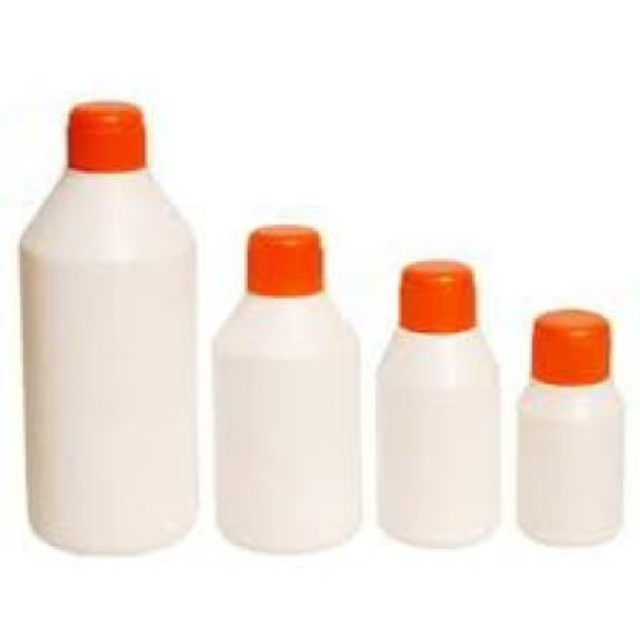trash: (20, 102, 195, 552), (214, 225, 358, 551), (377, 260, 497, 545), (518, 309, 622, 543)
